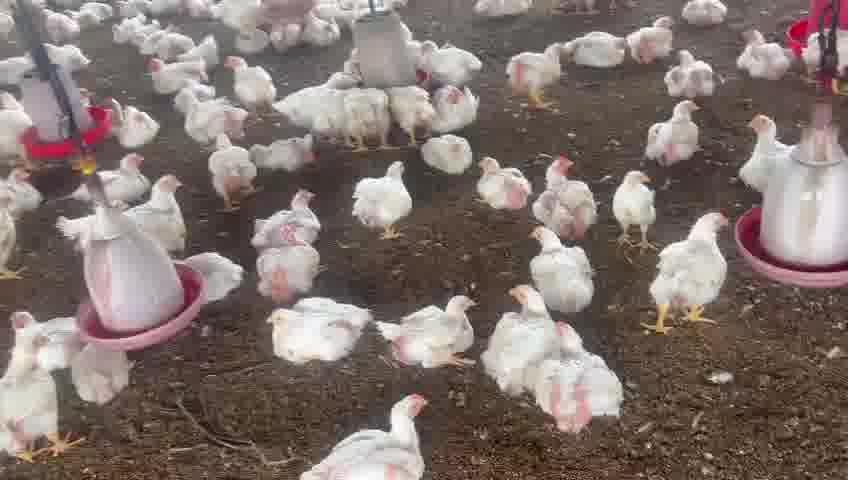AbNormal: (251, 128, 318, 175)
Normal: (640, 209, 730, 324), (475, 281, 565, 393), (0, 338, 80, 460), (537, 328, 625, 438), (367, 291, 482, 374), (265, 296, 370, 370), (522, 230, 602, 320), (531, 150, 605, 246), (346, 159, 416, 254), (256, 223, 329, 304), (195, 132, 262, 212), (645, 94, 710, 168), (134, 177, 201, 248), (606, 159, 669, 233), (339, 85, 398, 161), (503, 44, 568, 110), (261, 191, 334, 249), (473, 153, 539, 216), (173, 93, 249, 144), (738, 18, 788, 81), (229, 55, 285, 109), (139, 46, 213, 86), (421, 126, 481, 175), (421, 40, 485, 84), (630, 14, 676, 66), (101, 148, 150, 194), (670, 54, 718, 95)
